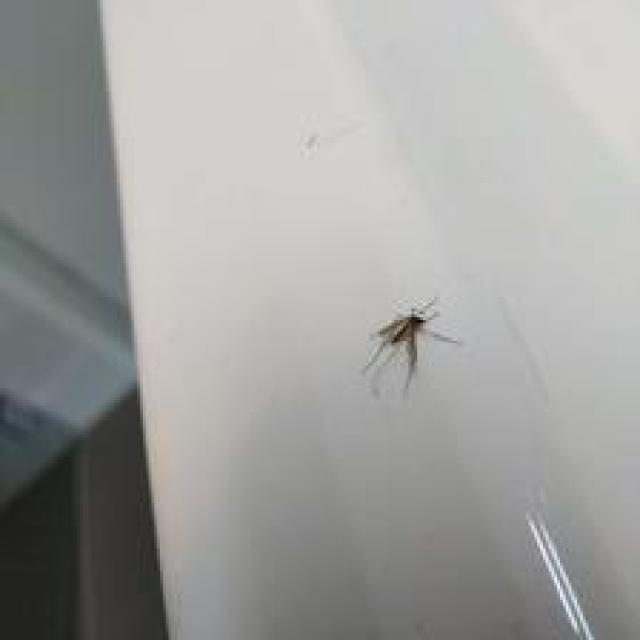Culex: (360, 296, 460, 390)
